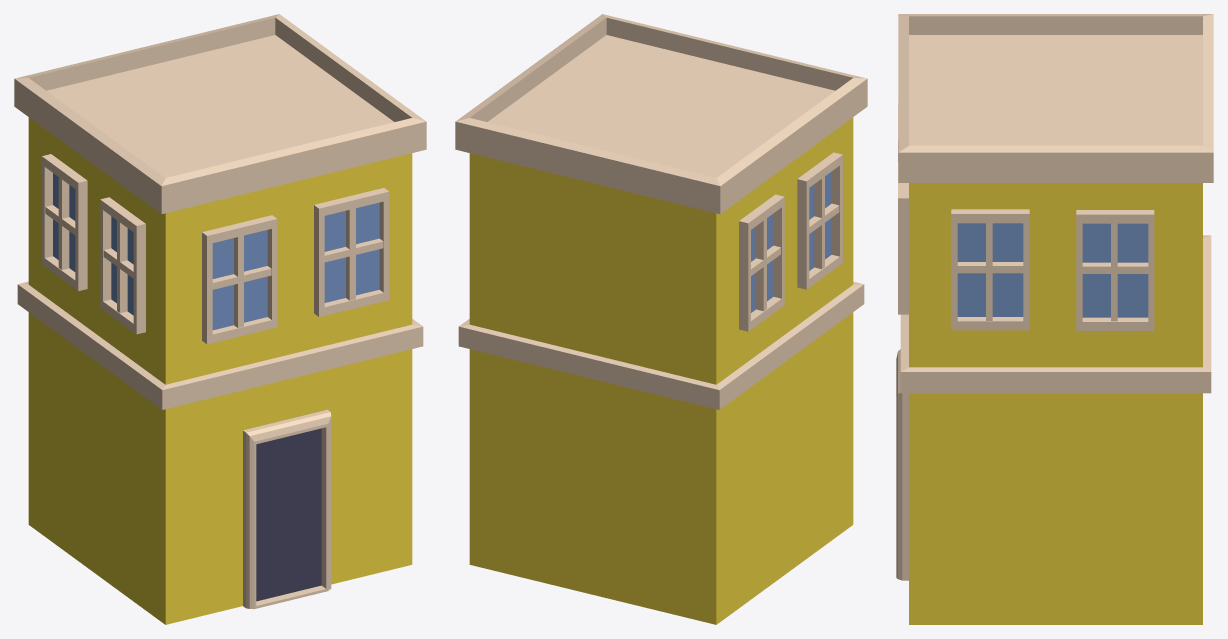
The model's file is buildinf kuning.fbx.
3 views of the same model, side by side, from view 1: azimuth 30°, elevation 25°; view 2: azimuth 150°, elevation 25°; view 3: azimuth 270°, elevation 25° (orthographic). The views are drawn at different scales.
Visible parts, largest first — view 1: building kuning; view 2: building kuning; view 3: building kuning.
Boxes of the visible parts, x1,y1,x2,y2 form: building kuning: (14, 14, 426, 624); building kuning: (455, 14, 867, 624); building kuning: (896, 14, 1213, 624).
Size of the model in its own units: 749 by 1205 by 723.
Materials: 1 (1 with a texture image).
